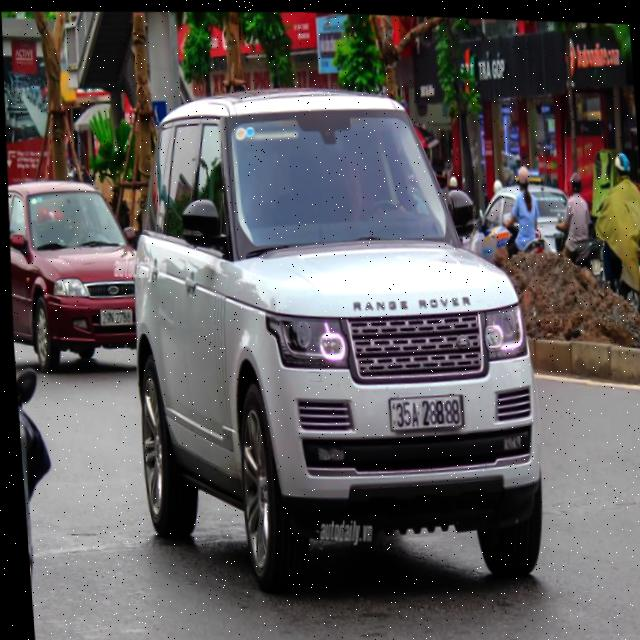car: (111, 70, 550, 611), (6, 171, 146, 379)
plate: (381, 387, 471, 438), (95, 301, 136, 331)
